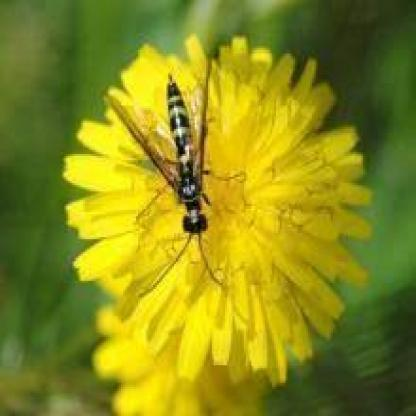sawfly: (96, 52, 244, 295)
